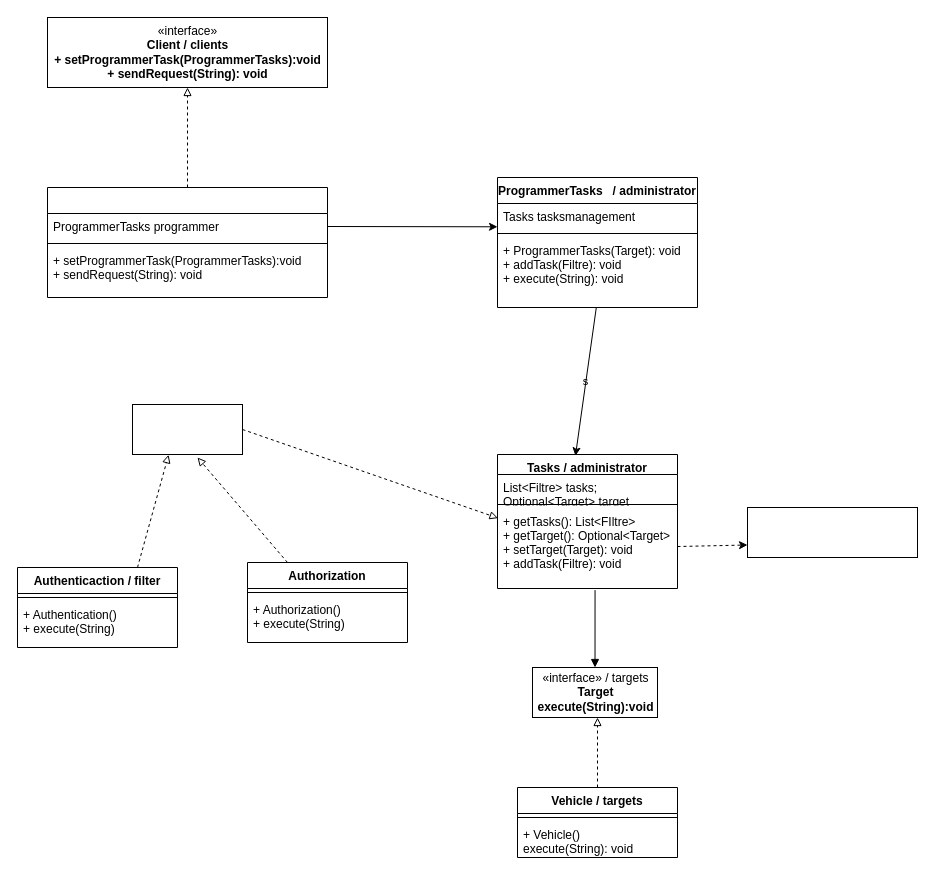
Some shapes in this 935 by 878 pixel diagram are drawn without their labels. The shapes that lost their labels are listed below. From the top down, each one's box as (x1, y1, x2, y2) in pixels, then its label:
(46, 186, 328, 298): Mollap / clients
(132, 404, 242, 454): «interface» Filtre / filter execute(String):void
(746, 506, 918, 558): «interface» / administrator addTask(Filtre): void
